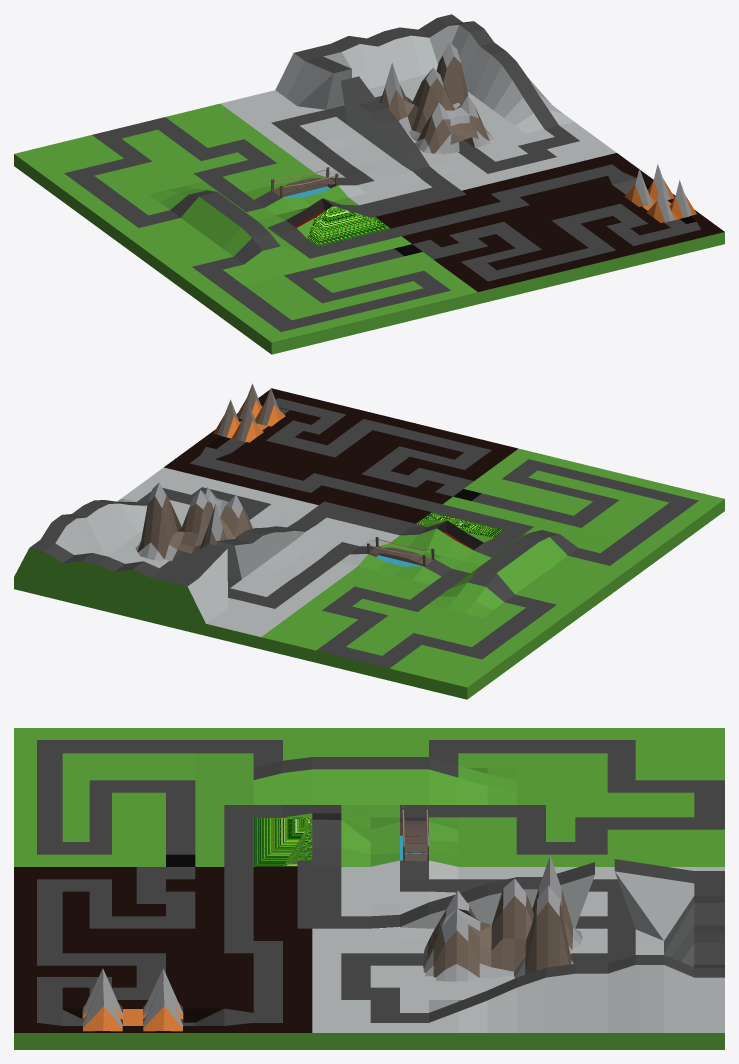
Rendered from sceneCourseTextures2.fbx.
3 renders of one model, top to bottom at view 1: azimuth 30°, elevation 25°; view 2: azimuth 150°, elevation 25°; view 3: azimuth 270°, elevation 25°, orthographic. The views are drawn at different scales.
Parts seen in each view (by area): view 1: Plane, Mountain, MountainUnder; view 2: Plane, Mountain, MountainUnder; view 3: Plane, Mountain, MountainUnder.
Boxes of the visible parts, x1,y1,x2,y2 form: Plane: [14, 14, 724, 354]; Mountain: [380, 42, 493, 154]; MountainUnder: [624, 164, 696, 222]; Plane: [14, 388, 724, 699]; Mountain: [135, 482, 252, 561]; MountainUnder: [213, 383, 285, 442]; Plane: [14, 728, 724, 1049]; Mountain: [423, 856, 582, 981]; MountainUnder: [82, 968, 183, 1031].
Bounding box in the file's own units: 14586 × 2675 × 14363.
